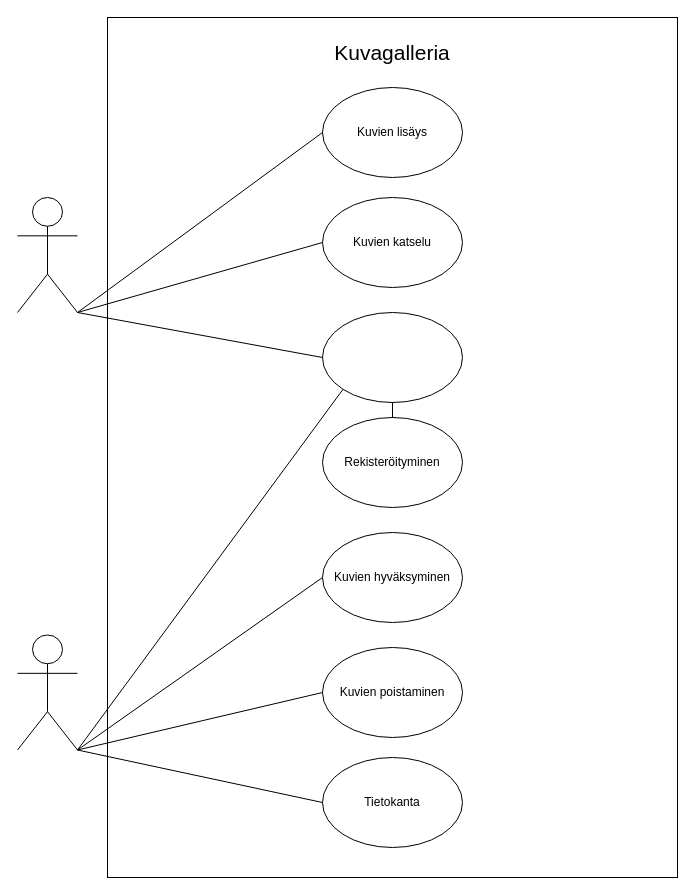
The diagram is 695 pixels wide and 895 high, and some of its shapes have lost their labels. Each missing label, with the centre of its shape:
"Kirjautuminen" goes at (392,357).
"Käyttäjä" goes at (47,254).
"Ylläpitäjä" goes at (47,692).
